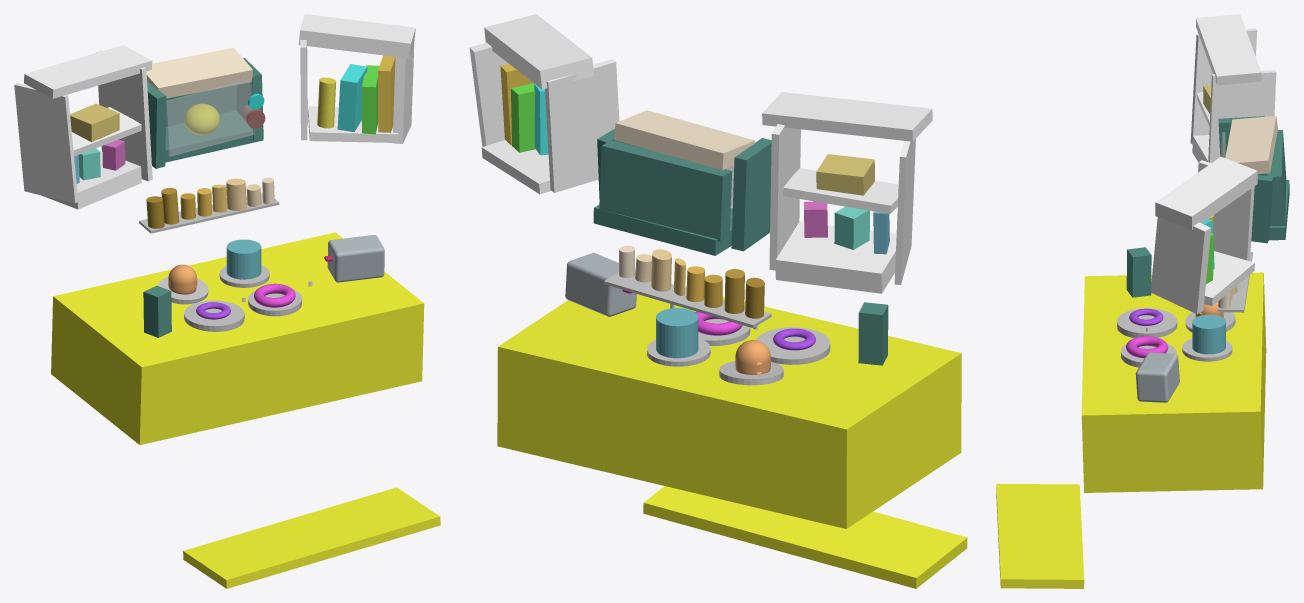
Rendered from kitchen01.fbx.
3 renders of one model, left to right at view 1: azimuth 30°, elevation 25°; view 2: azimuth 150°, elevation 25°; view 3: azimuth 270°, elevation 25°, orthographic. The views are drawn at different scales.
Parts seen in each view (by area): view 1: Plane.001, Plane.017, Plane.005, Cube.007, Plane.016, Plane.008, Cube.003, Plane.004, Cube.002, Rounded Cube, Plane.006, Plane.014 (+25 smaller); view 2: Plane.001, Plane.017, Plane.002, Plane.013, Plane.008, Plane.006, Plane.016, Cube.003, Cube, Plane.004, Rounded Cube, Plane.014 (+25 smaller); view 3: Plane.001, Plane.017, Plane.014, Plane.016, Plane.008, Plane.004, Cube.003, Plane.013, Rounded Cube, Plane.015, Plane.005, Plane.002 (+12 smaller).
Part boxes in pixels (left/top/right/bottom): Plane.001: left=51, top=232, right=424, bottom=444; Plane.017: left=183, top=487, right=440, bottom=588; Plane.005: left=14, top=83, right=78, bottom=203; Cube.007: left=166, top=79, right=254, bottom=156; Plane.016: left=298, top=14, right=415, bottom=58; Plane.008: left=24, top=45, right=152, bottom=98; Cube.003: left=146, top=47, right=252, bottom=98; Plane.004: left=96, top=50, right=152, bottom=181; Cube.002: left=165, top=110, right=263, bottom=162; Rounded Cube: left=327, top=235, right=384, bottom=282; Plane.006: left=41, top=150, right=141, bottom=209; Plane.014: left=393, top=43, right=414, bottom=143; Plane.001: left=497, top=287, right=961, bottom=528; Plane.017: left=643, top=486, right=967, bottom=588; Plane.002: left=599, top=140, right=732, bottom=241; Plane.013: left=545, top=59, right=619, bottom=192; Plane.008: left=762, top=92, right=932, bottom=141; Plane.006: left=775, top=221, right=896, bottom=293; Plane.016: left=484, top=14, right=593, bottom=89; Cube.003: left=614, top=110, right=754, bottom=170; Cube: left=731, top=138, right=771, bottom=251; Plane.004: left=769, top=124, right=800, bottom=270; Rounded Cube: left=565, top=253, right=636, bottom=316; Plane.014: left=469, top=42, right=508, bottom=146; Plane.001: left=1081, top=272, right=1266, bottom=492; Plane.017: left=996, top=483, right=1084, bottom=588; Plane.014: left=1150, top=217, right=1211, bottom=313; Plane.016: left=1155, top=156, right=1257, bottom=229; Plane.008: left=1196, top=14, right=1261, bottom=85; Plane.004: left=1208, top=70, right=1276, bottom=162; Cube.003: left=1225, top=116, right=1277, bottom=173; Plane.013: left=1198, top=160, right=1254, bottom=261; Rounded Cube: left=1135, top=352, right=1179, bottom=402; Plane.015: left=1151, top=251, right=1254, bottom=305; Plane.005: left=1190, top=28, right=1257, bottom=144; Plane.002: left=1267, top=129, right=1286, bottom=225.
Bounding box in the file's own units: 185 × 210 × 127.
